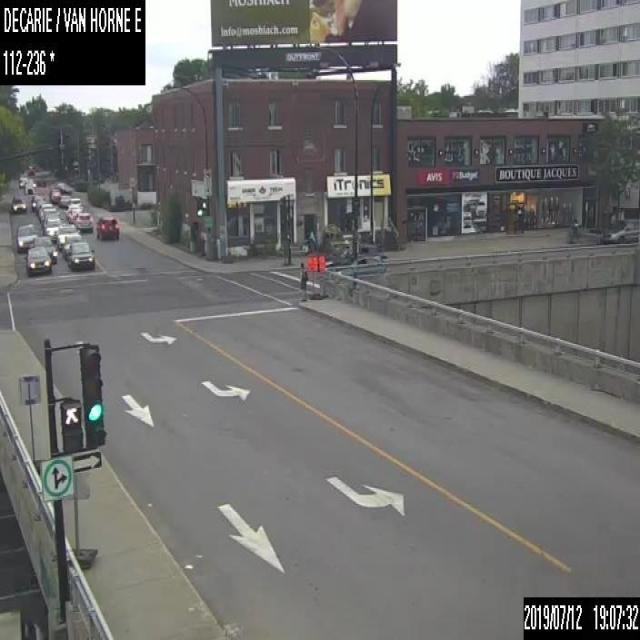construction: (66, 468, 96, 568), (18, 372, 44, 471), (317, 253, 327, 298), (306, 252, 316, 297)
pedestrian: (296, 259, 308, 300), (282, 231, 291, 265)
vehicle: (597, 216, 639, 243), (324, 252, 382, 267), (67, 240, 95, 270), (24, 246, 51, 275), (31, 235, 57, 262), (14, 222, 37, 251), (57, 222, 79, 250), (95, 216, 119, 239), (62, 234, 83, 258), (42, 216, 62, 240), (74, 211, 92, 231), (65, 197, 81, 218), (40, 207, 57, 226), (38, 202, 53, 219), (11, 195, 25, 212), (68, 206, 82, 222), (48, 186, 61, 202), (31, 194, 43, 210), (24, 180, 36, 193), (58, 194, 70, 207), (35, 199, 45, 214), (18, 176, 26, 187)
